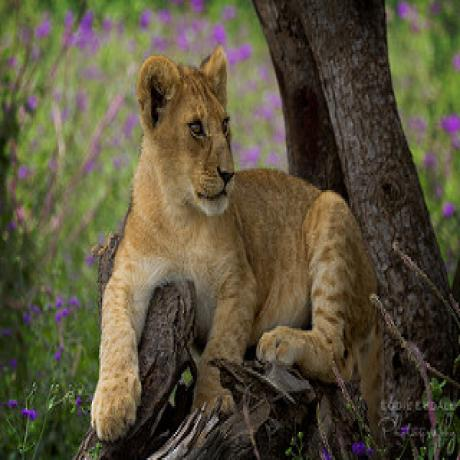Lion: (92, 48, 374, 434)
